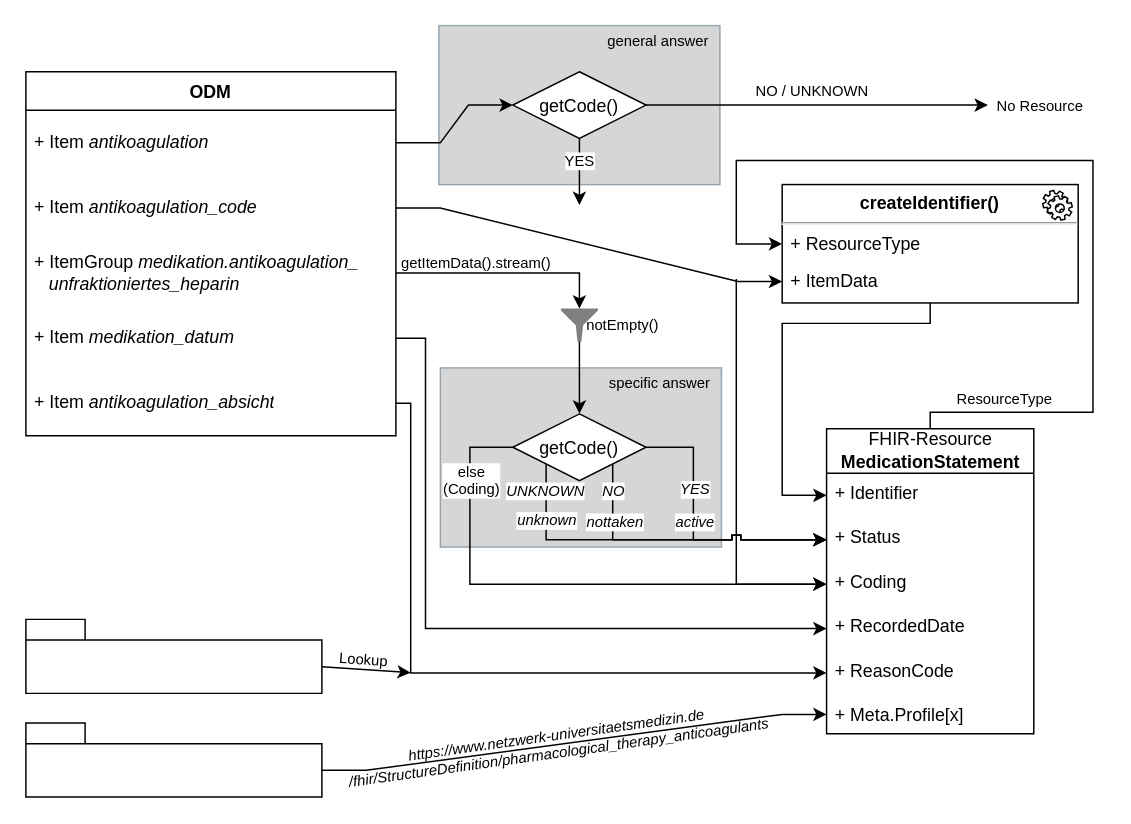
Image size: 1131x824. Some labels were removed from this diagram. Each missing label, with the centre of its shape:
Codesystem SNOMED-CT: the point at 173,655
GECCO Profiles: the point at 173,759
